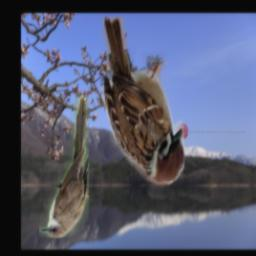Cuckoo: (39, 95, 89, 238)
Sparrow: (100, 17, 184, 185)
